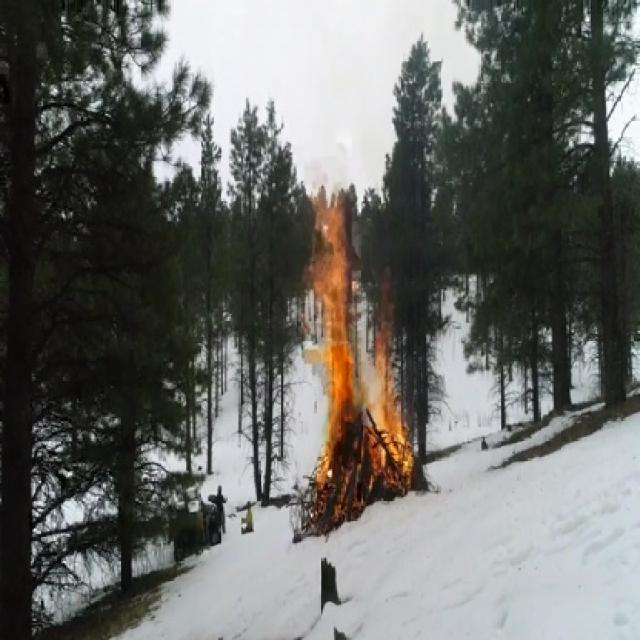Fire: (292, 178, 417, 534)
